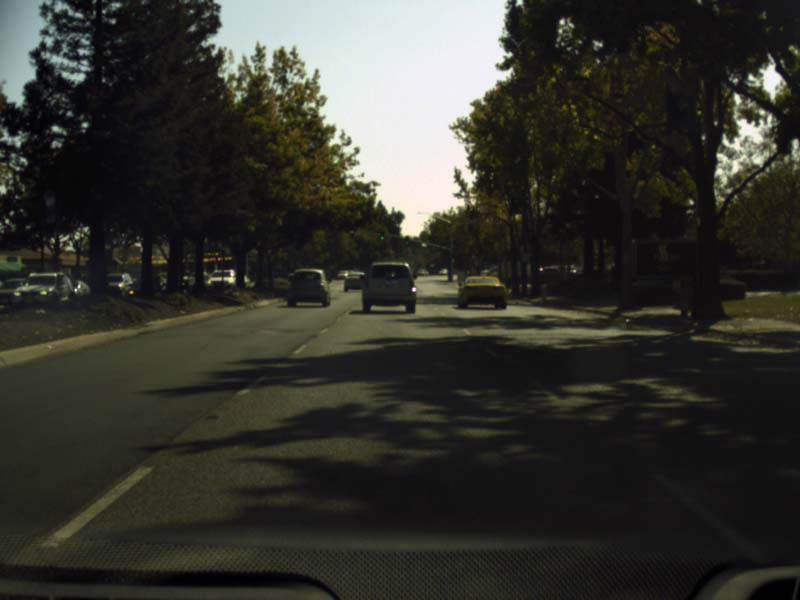Green: (379, 231, 385, 241), (404, 237, 409, 245), (451, 258, 454, 262)
Red: (350, 229, 353, 238)
